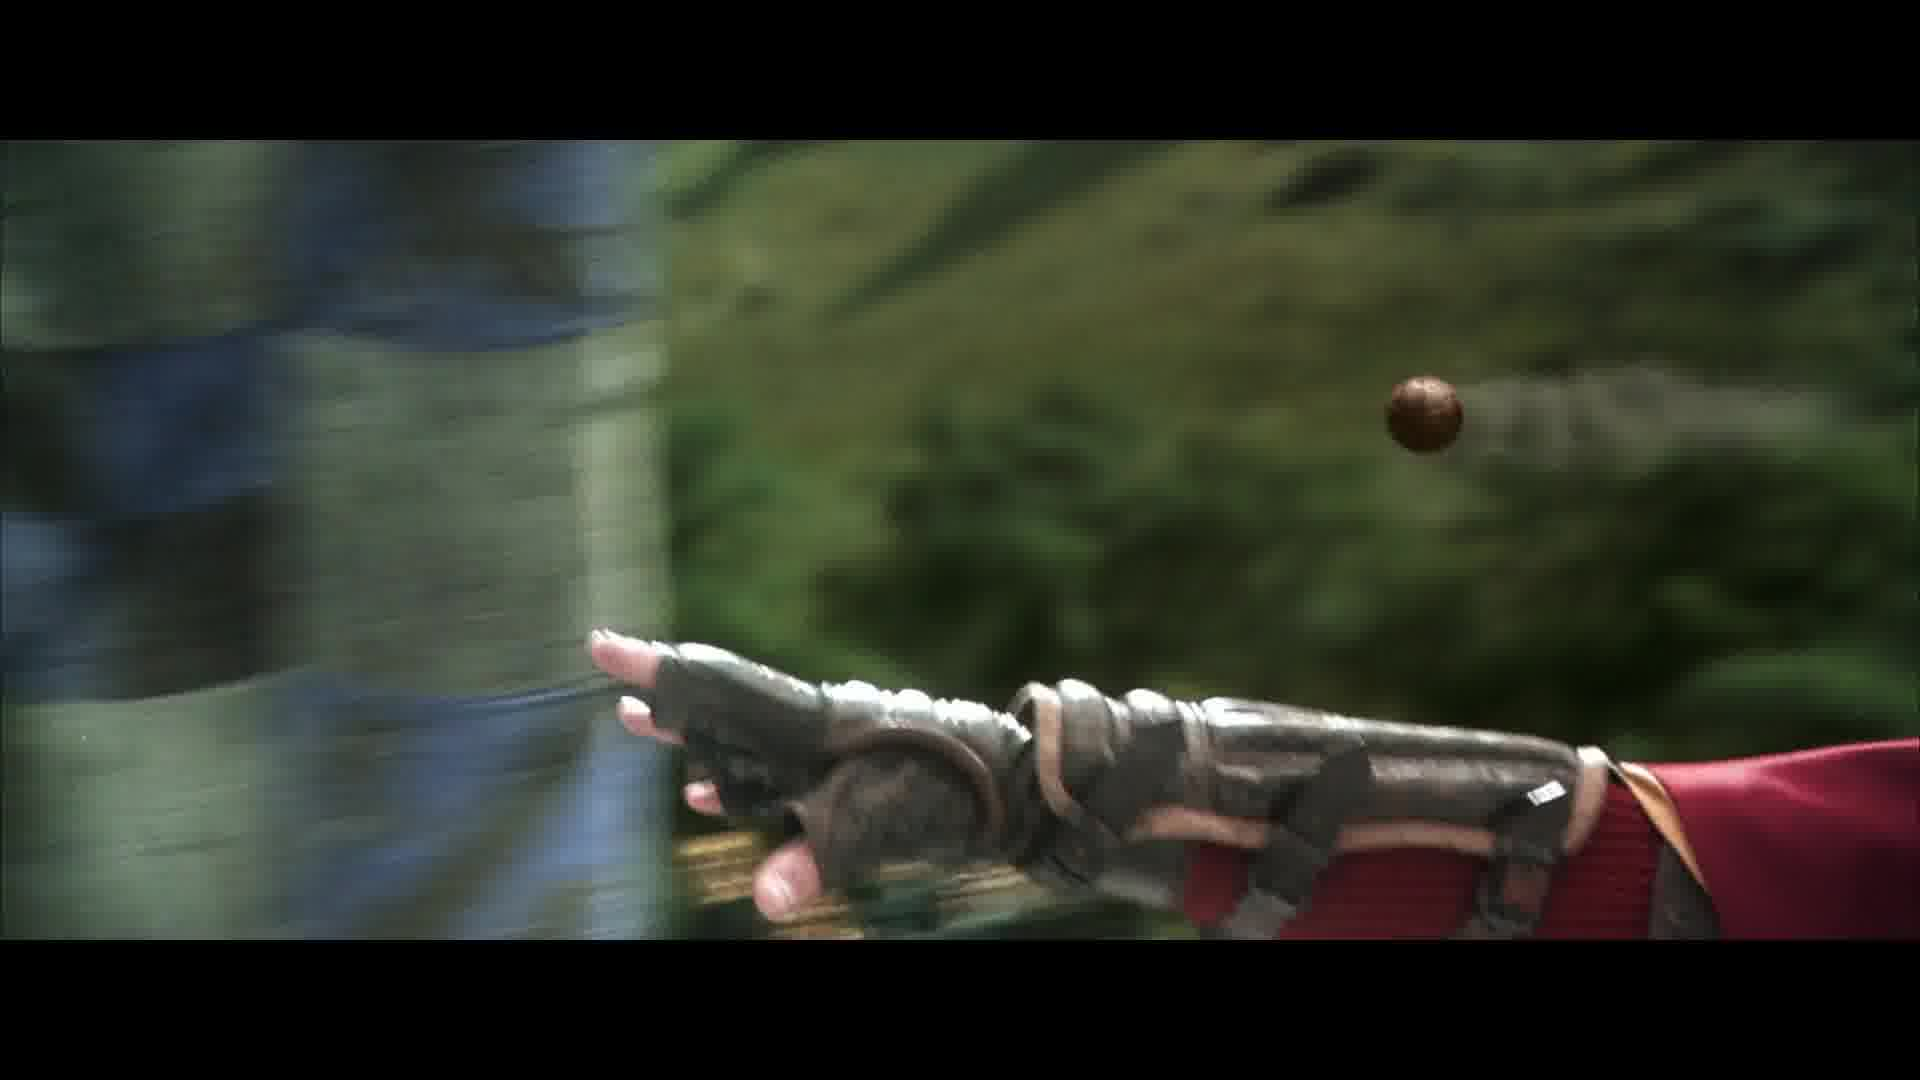bludger: (1385, 375, 1466, 459)
